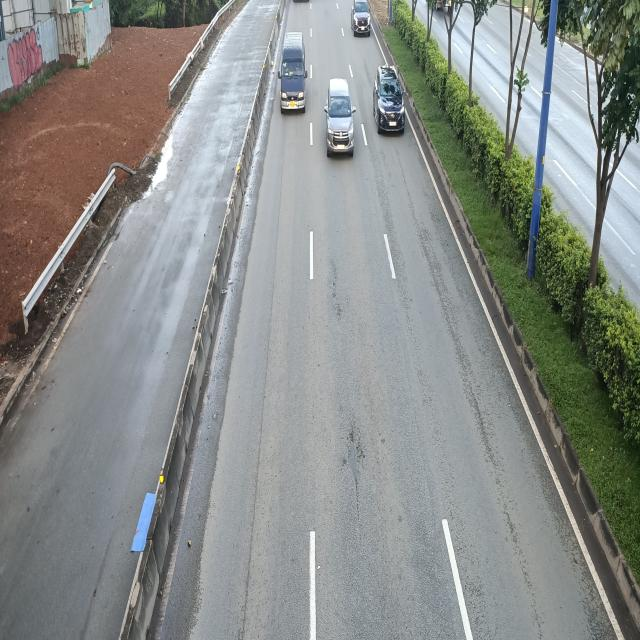car: (326, 80, 357, 158), (278, 34, 308, 114), (372, 64, 404, 135), (352, 0, 371, 37)
